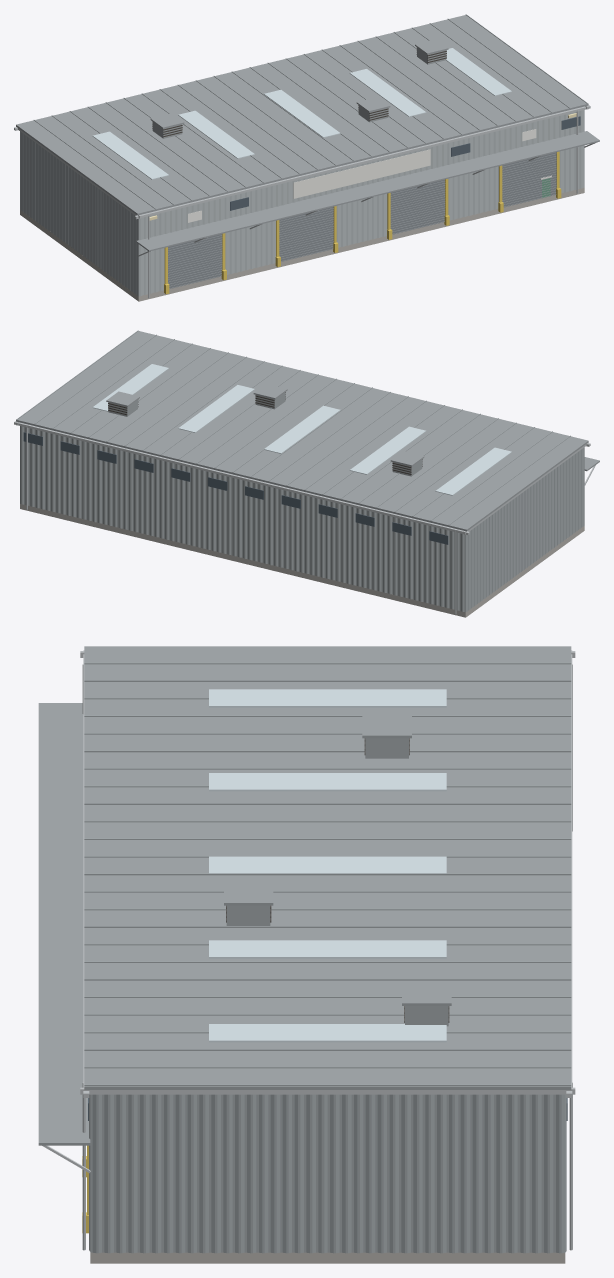
Rendered from wf_shed_tug.glb.
3 views of the same model, one above another, from view 1: azimuth 30°, elevation 25°; view 2: azimuth 150°, elevation 25°; view 3: azimuth 270°, elevation 25° (orthographic). The views are drawn at different scales.
Parts seen in each view (by area): view 1: wf_shed_mesh; view 2: wf_shed_mesh; view 3: wf_shed_mesh.
Boxes of the visible parts, bbox=[...] form: wf_shed_mesh: bbox=[14, 14, 599, 301]; wf_shed_mesh: bbox=[14, 330, 599, 617]; wf_shed_mesh: bbox=[38, 646, 575, 1263].
Size of the model in its own units: 53 by 13.15 by 27.1.
